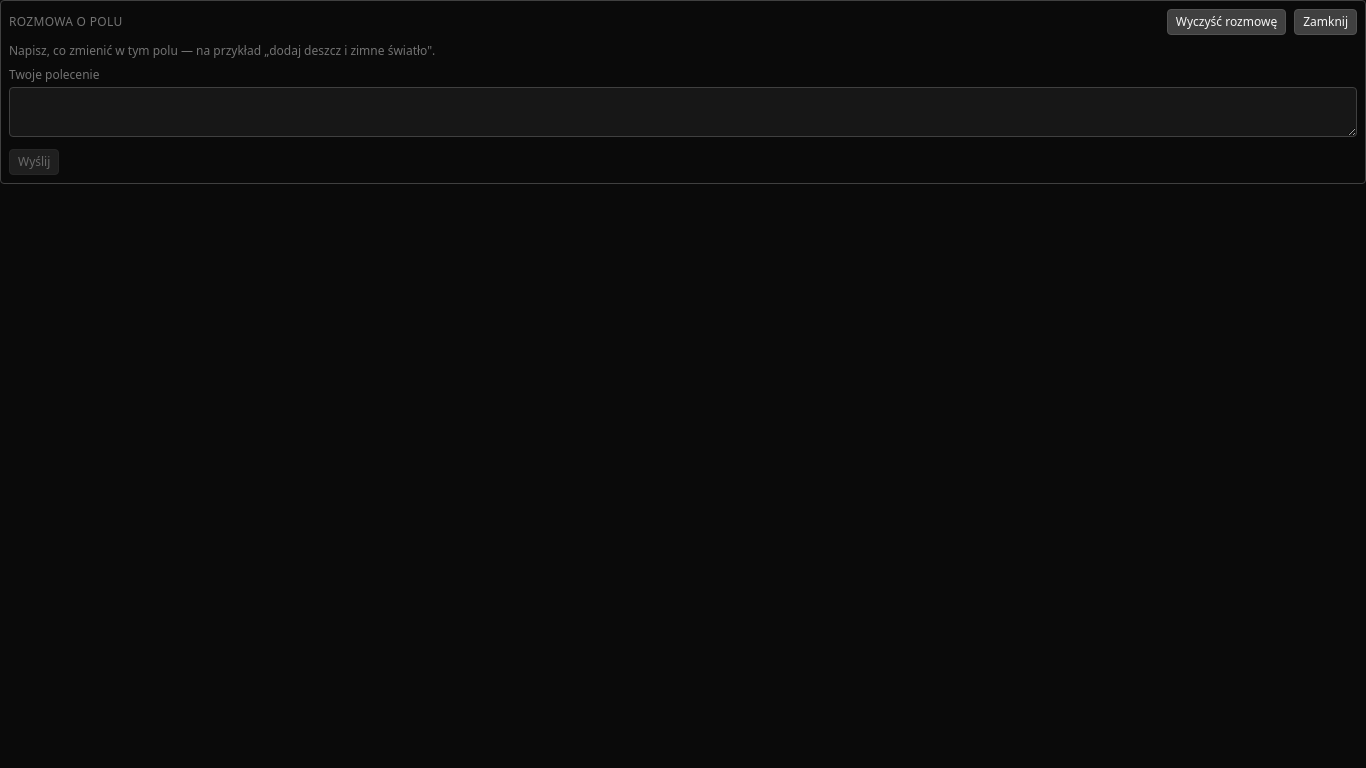
FieldChat › dwie tury pod rząd dają dwie odpowiedzi, nie jedną i nie trzy
Type "dodaj deszcz" into the text box labelled "Twoje polecenie" at (683, 112), box [9,87,1357,137]
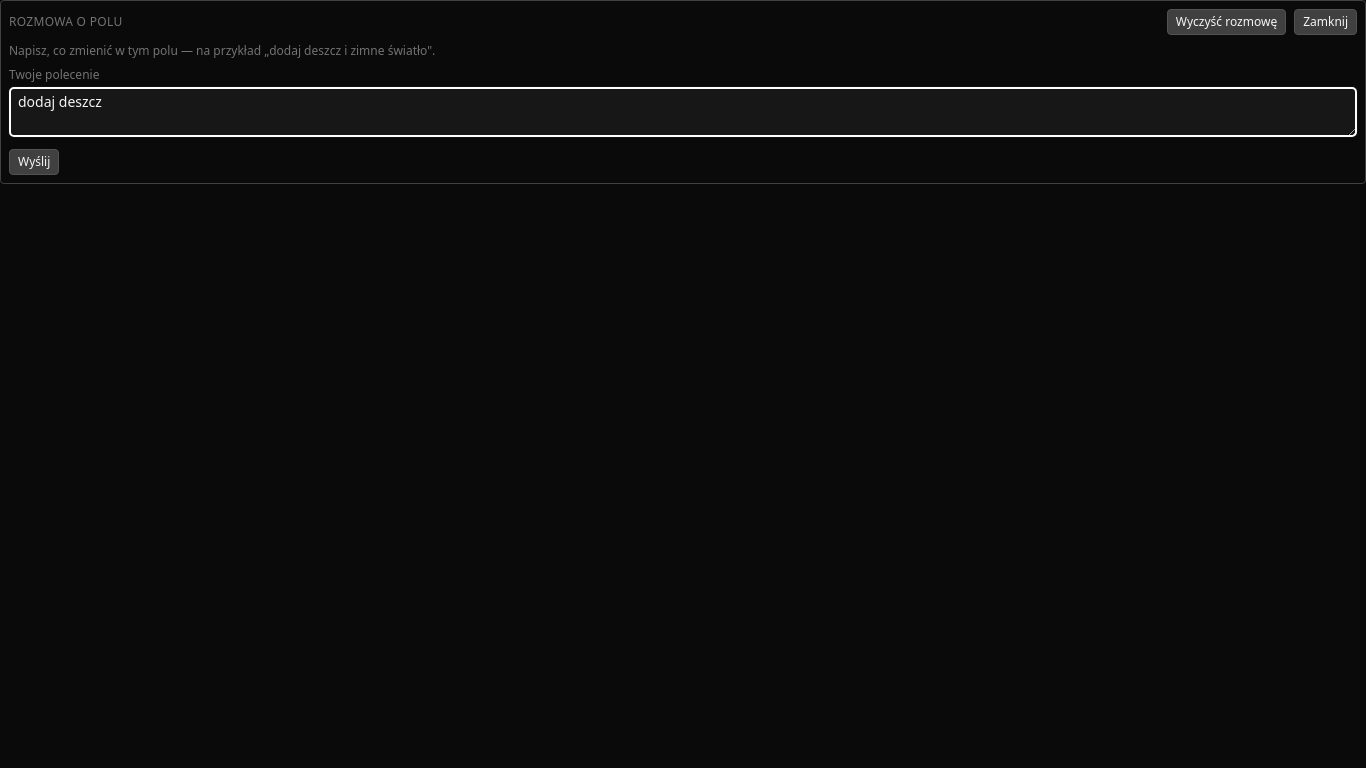
Click the button "Wyślij" at (34, 162), box [9,149,59,175]
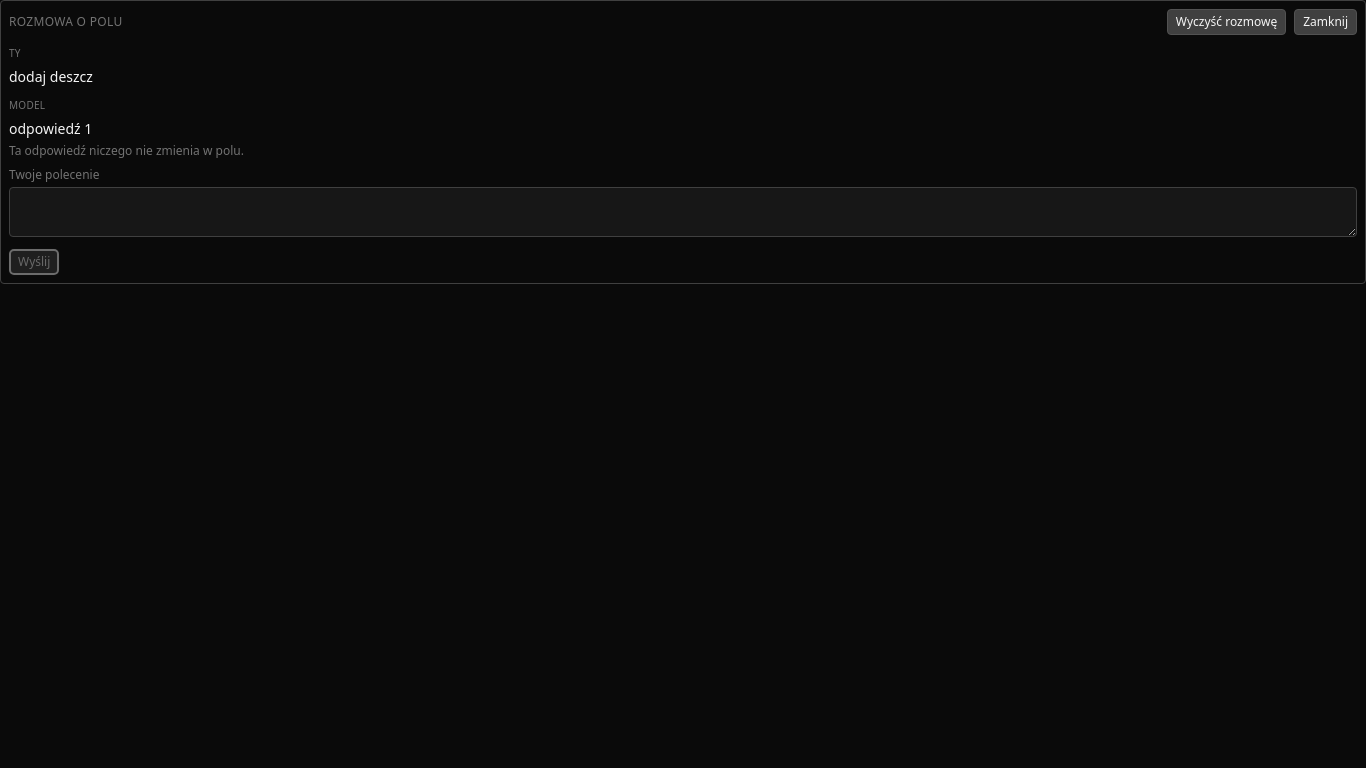
Expected: the text "odpowiedź 1" is shown, [9,119,92,138]
Type "mocniej" into the text box labelled "Twoje polecenie" at (683, 212), box [9,187,1357,237]
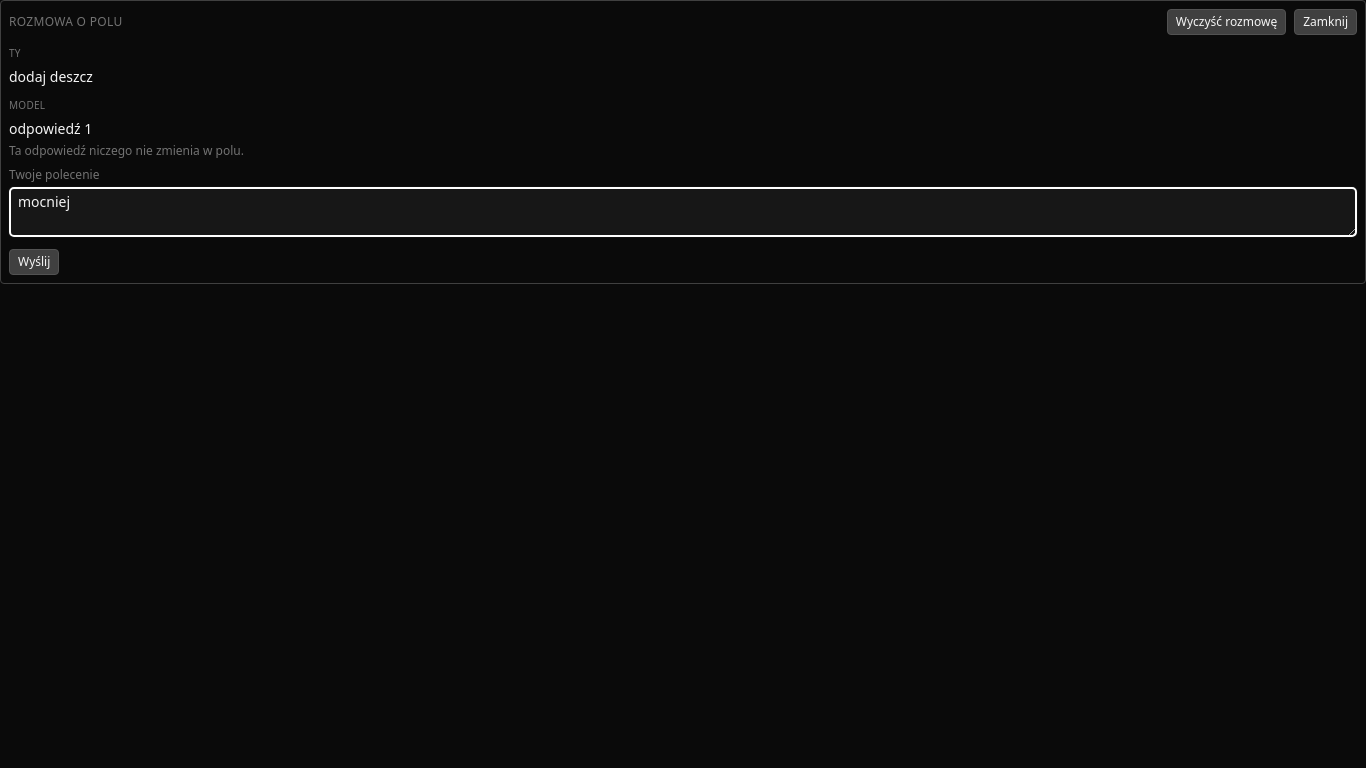
Click the button "Wyślij" at (34, 262), box [9,249,59,275]
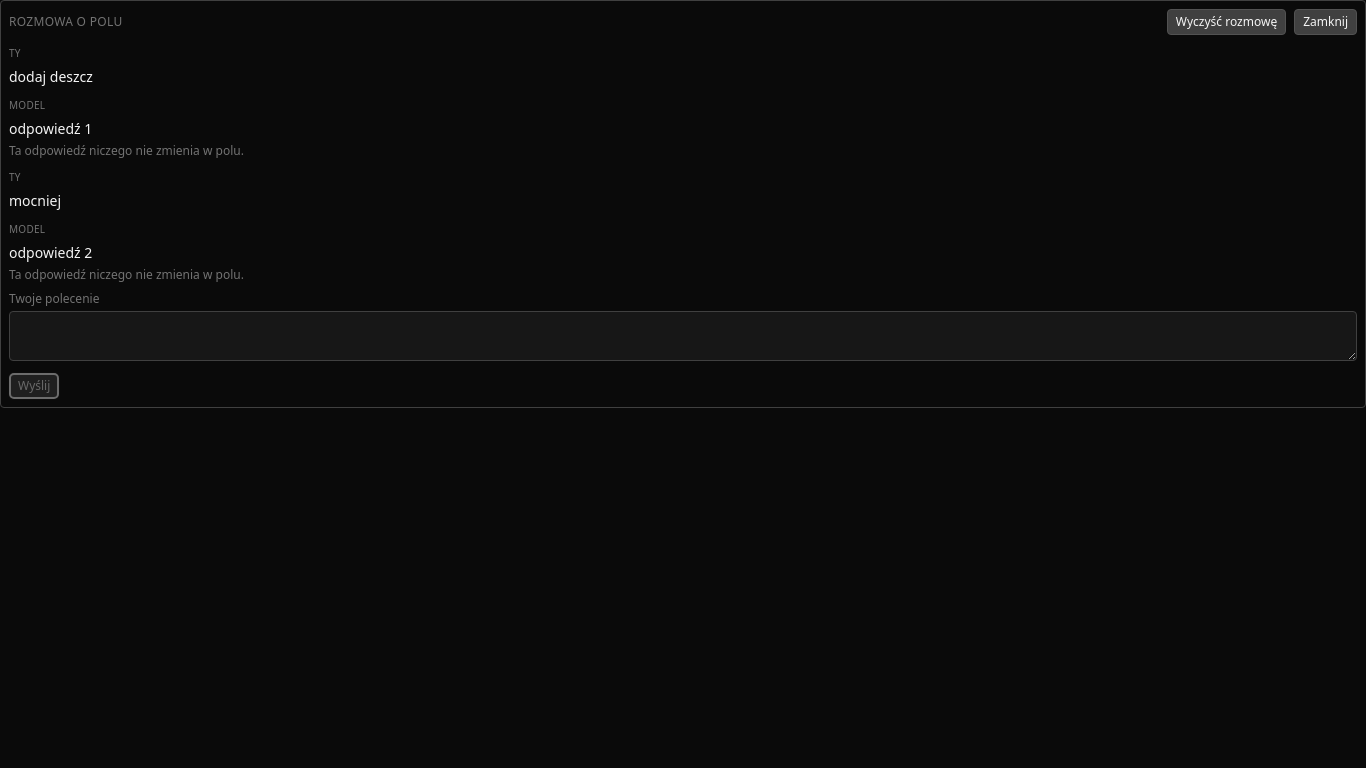
Expected: the text "odpowiedź 2" is shown, [9,243,92,262]
Expected: the text "odpowiedź 1" is shown 2 times, [9,119,92,138]; [9,243,92,262]
